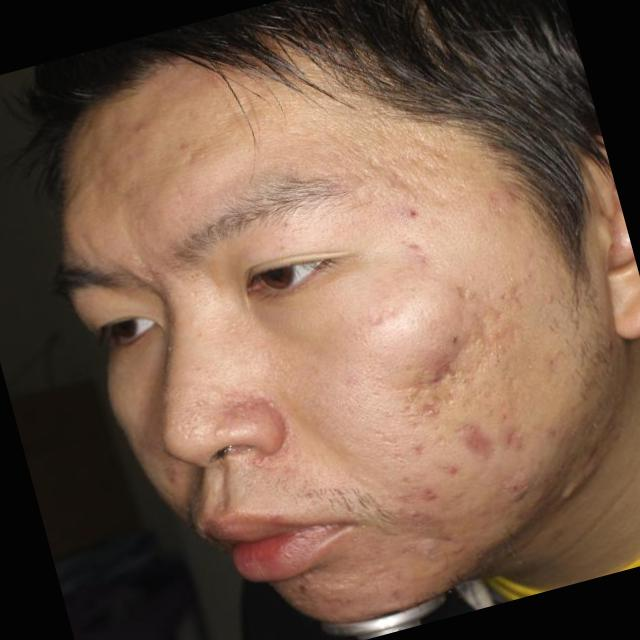acne: (392, 497, 435, 531), (461, 419, 493, 459), (393, 198, 429, 232), (486, 182, 521, 214), (501, 474, 534, 504), (496, 426, 528, 454), (434, 461, 464, 484), (417, 479, 438, 508)
